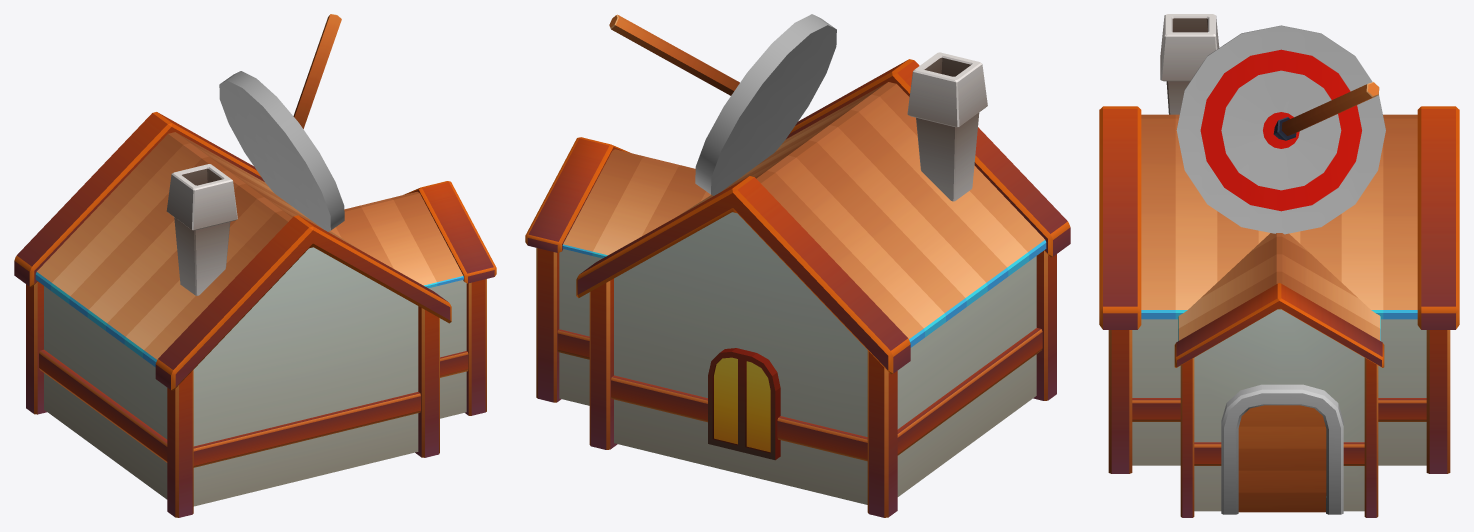
Rendered from Barrack_Archer_1.fbx.
The picture shows the model from 3 angles, left to right: view 1: azimuth 30°, elevation 25°; view 2: azimuth 150°, elevation 25°; view 3: azimuth 270°, elevation 25°; orthographic projection. The views are drawn at different scales.
Visible parts, largest first — view 1: Barrack_Archer_Lv1; view 2: Barrack_Archer_Lv1; view 3: Barrack_Archer_Lv1.
Boxes of the visible parts, x1,y1,x2,y2 form: Barrack_Archer_Lv1: [14, 14, 496, 517]; Barrack_Archer_Lv1: [525, 14, 1070, 517]; Barrack_Archer_Lv1: [1099, 14, 1459, 517].
Size of the model in its own units: 1.04 by 0.9743 by 0.8016.
Materials: 1 (1 with a texture image).
